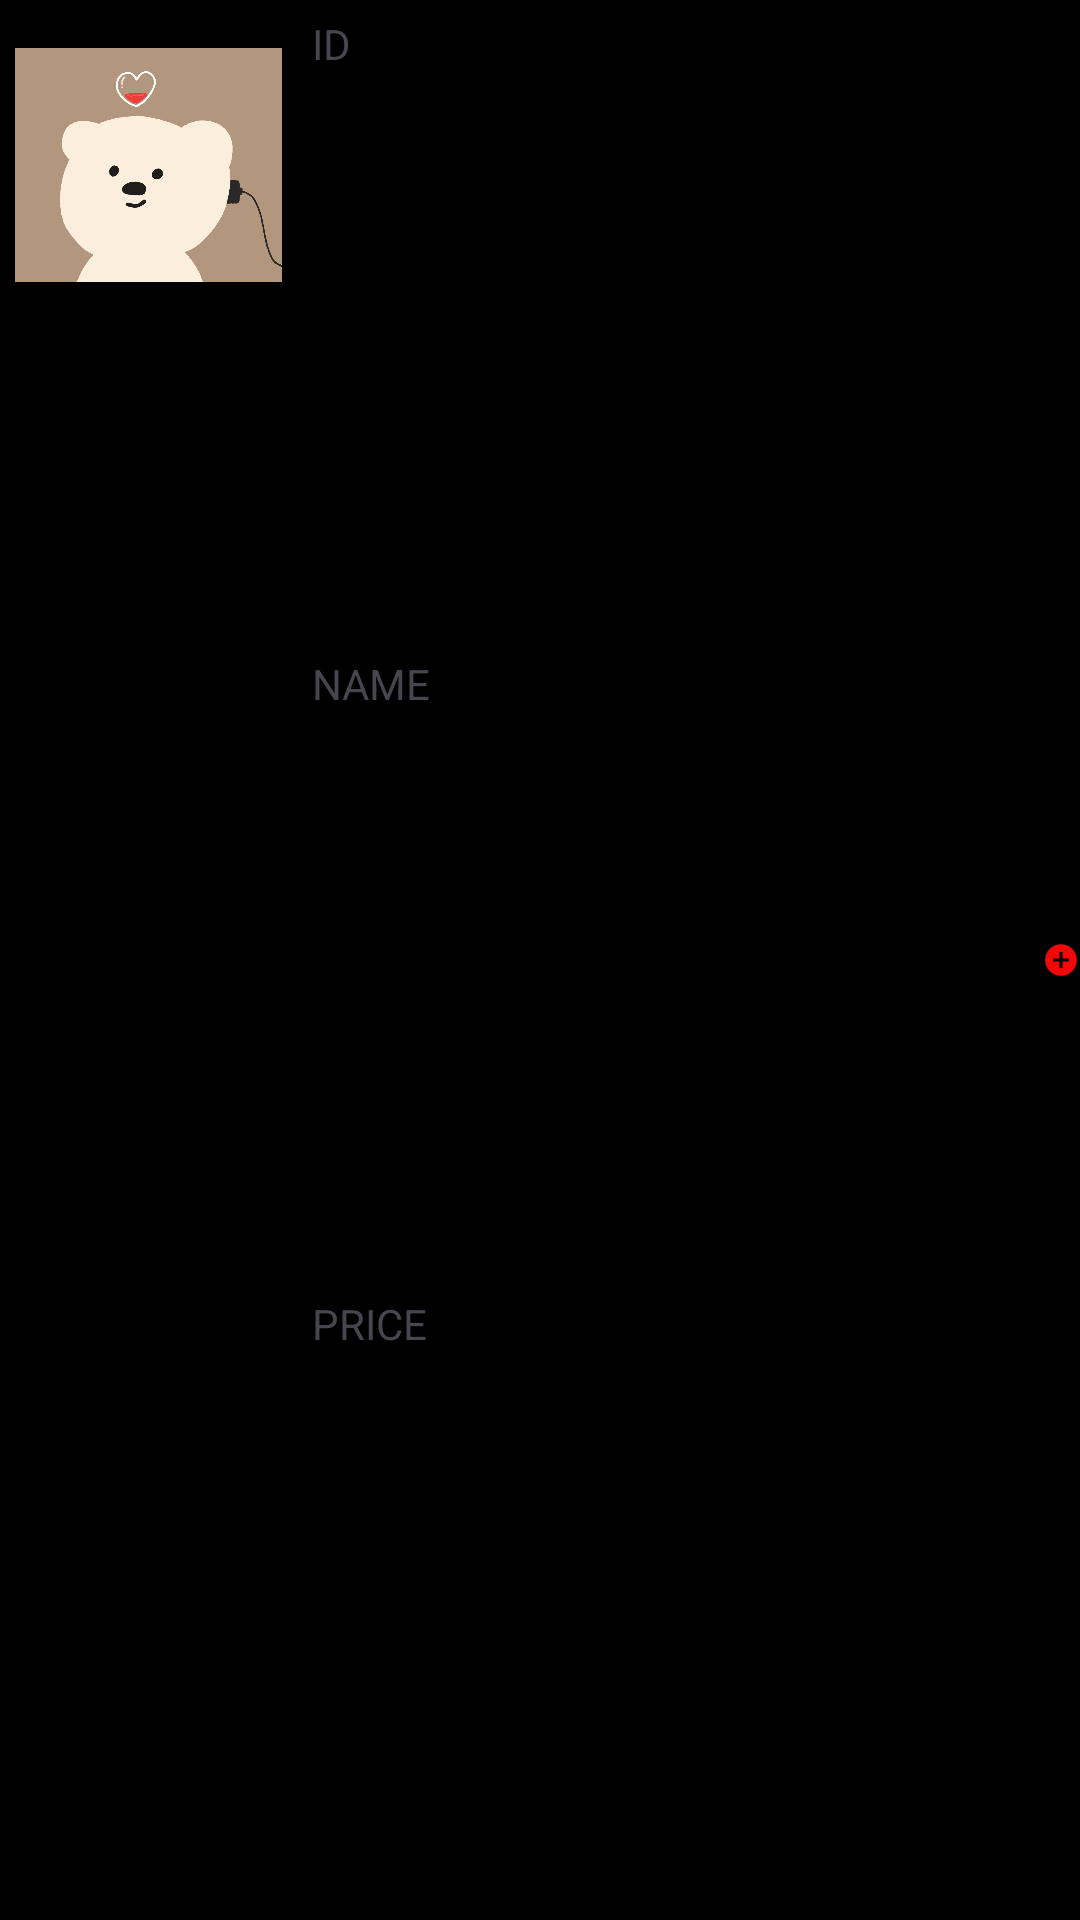

Where icons sit on this 1080w x 1920h app screen, as region(x1, y1, x2, y2):
plus: region(1045, 944, 1077, 976)
